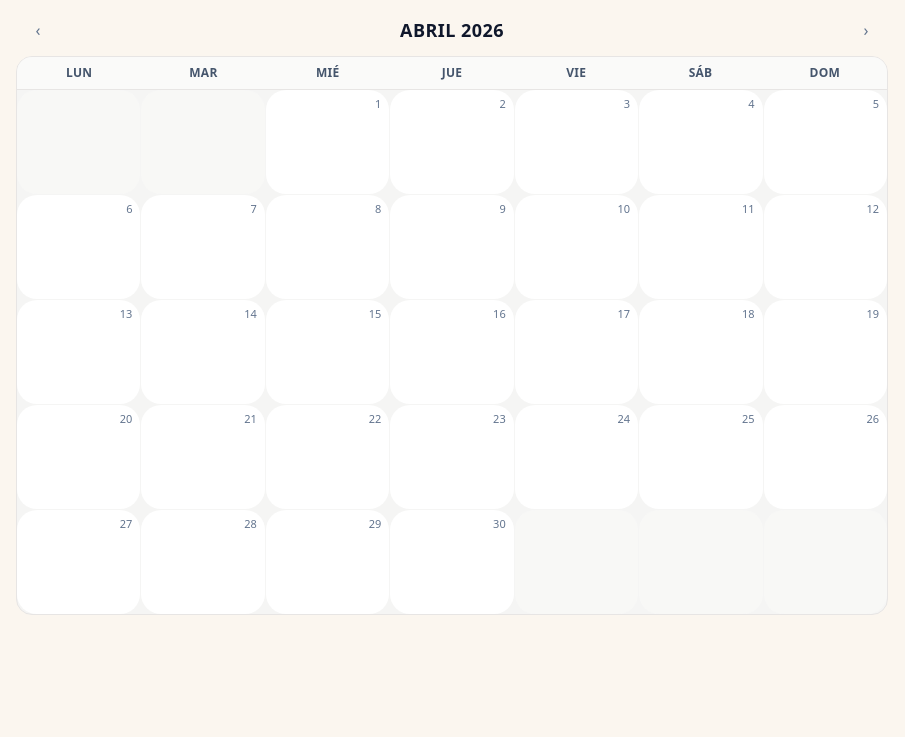
CalendarGrid › navigates to the previous month when clicking the back button
Click the button named "Mes anterior".
click(38, 30)  # box [20,12,56,48]
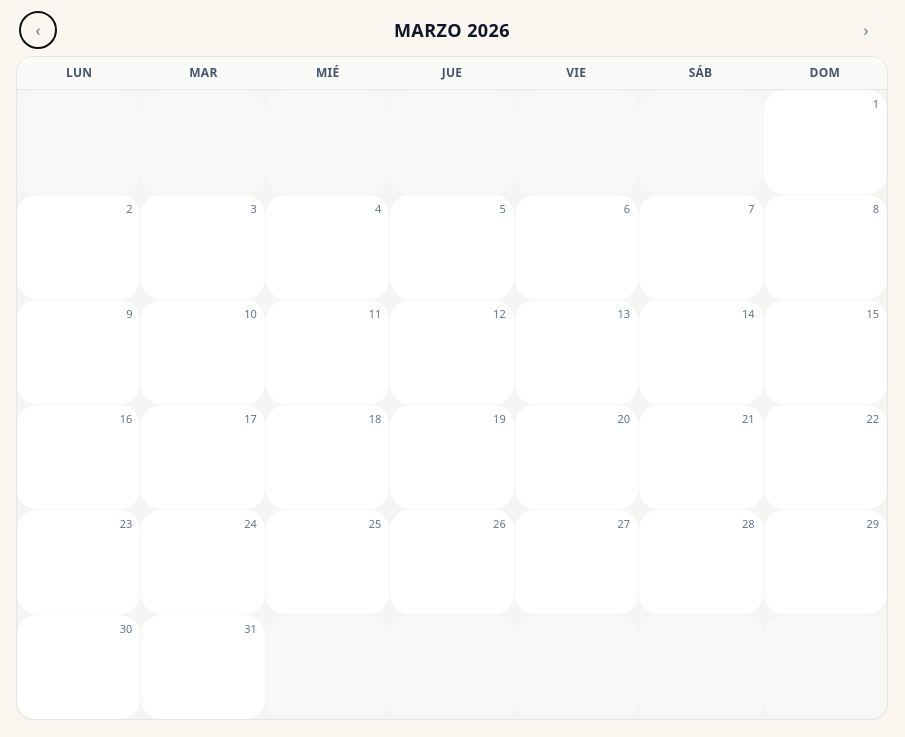
Result: the heading "Marzo 2026" is shown at [394,16,510,44]
